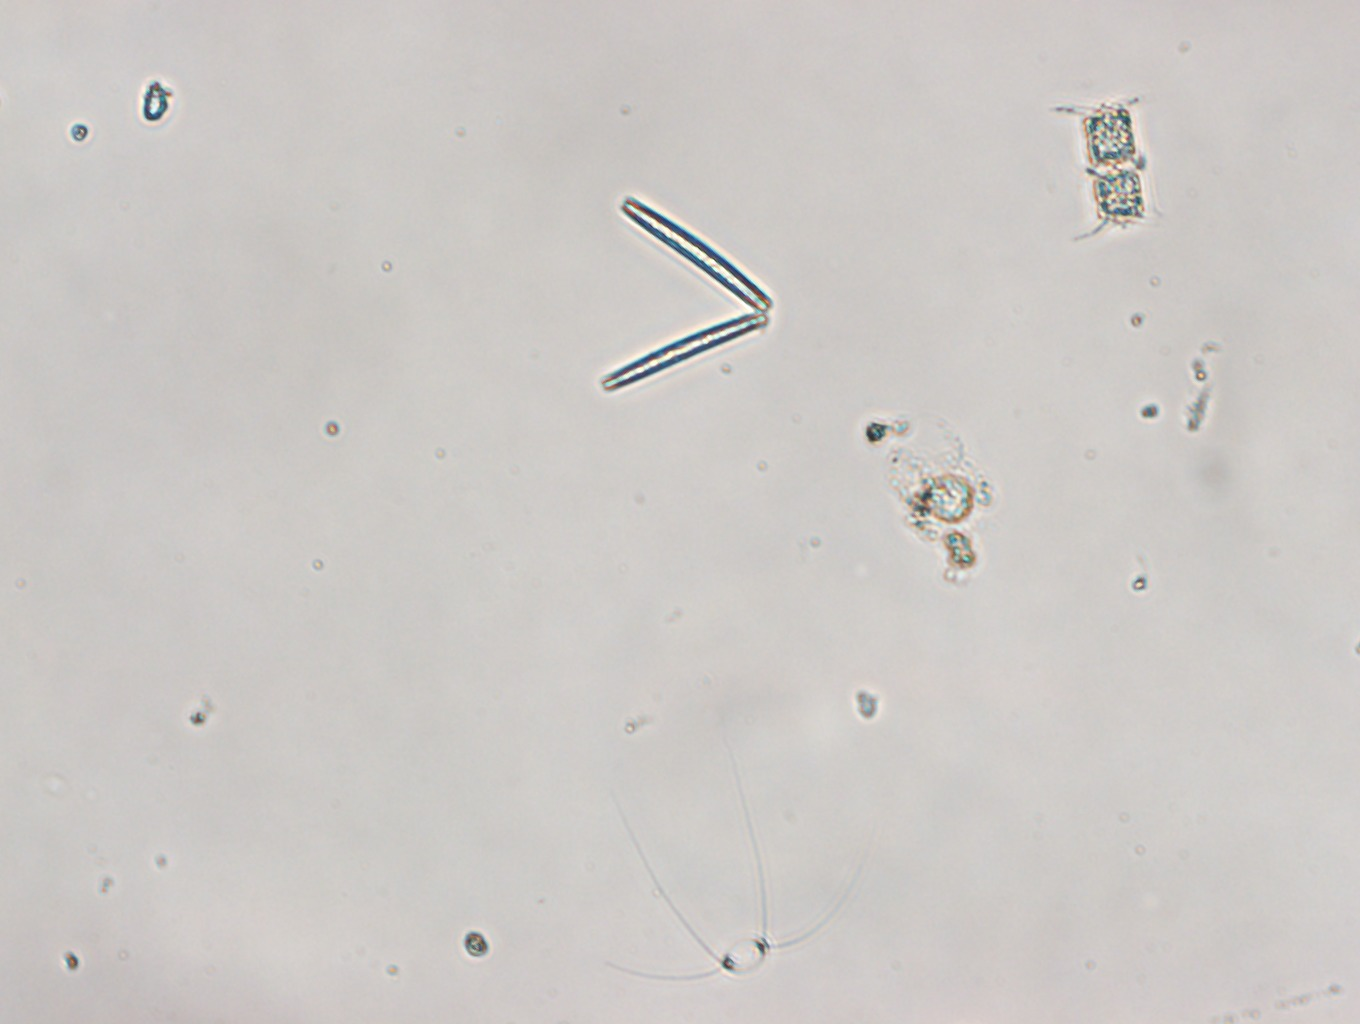chaetoceros: (598, 746, 873, 980), (1049, 94, 1177, 243)
thalassionema nitzschioides: (595, 194, 776, 394)
